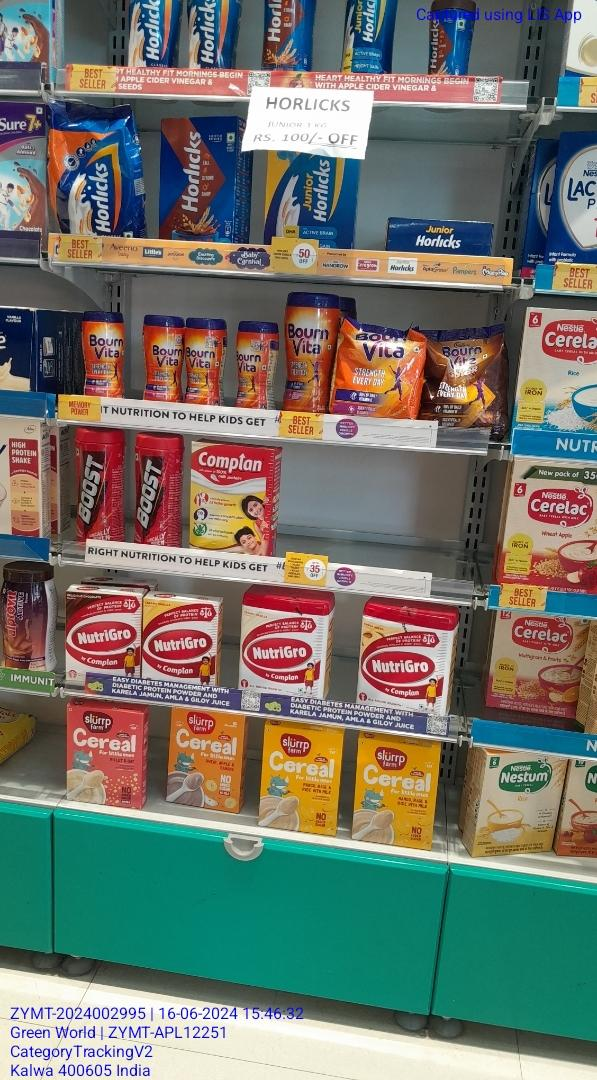BOURN_VITA_200_G_JAR: (81, 312, 124, 397), (236, 323, 278, 408), (186, 318, 226, 404), (144, 315, 183, 402)
BOURN_VITA_500_G_JAR: (281, 289, 329, 409)
BOURN_VITA_500_G_POUCH: (335, 327, 420, 416)
BOURN_VITA_FIVE_STAR_MAGIC_500_G_POUCH: (426, 323, 509, 418)
COMPLAN_CHOCOLATE_500_GMS_PACK: (162, 120, 236, 242)
COMPLAN_KESAR_BADAM_500_GMS_PACK: (191, 441, 269, 554)
